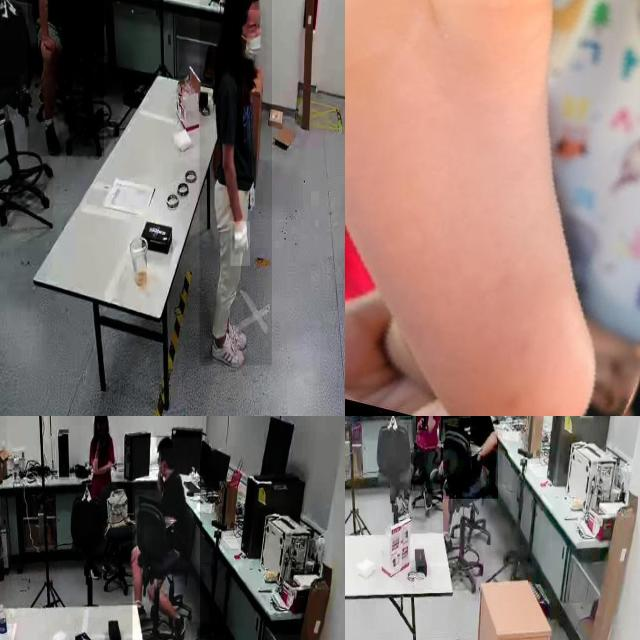Barefoots: (345, 0, 599, 413)
face_mask: (235, 0, 266, 63)
face_nomask: (96, 419, 106, 435)
hand_glove: (230, 221, 250, 267)
hand_noglove: (41, 32, 59, 58), (95, 436, 105, 452), (416, 416, 426, 431), (91, 458, 99, 476)
head_nohelmet: (224, 0, 259, 10), (157, 436, 173, 449)
person: (199, 0, 272, 366), (132, 437, 200, 640), (27, 0, 104, 157), (440, 416, 498, 500), (81, 416, 116, 514), (410, 416, 443, 511)
shoes: (216, 308, 252, 352), (210, 330, 247, 372), (42, 110, 66, 160)
